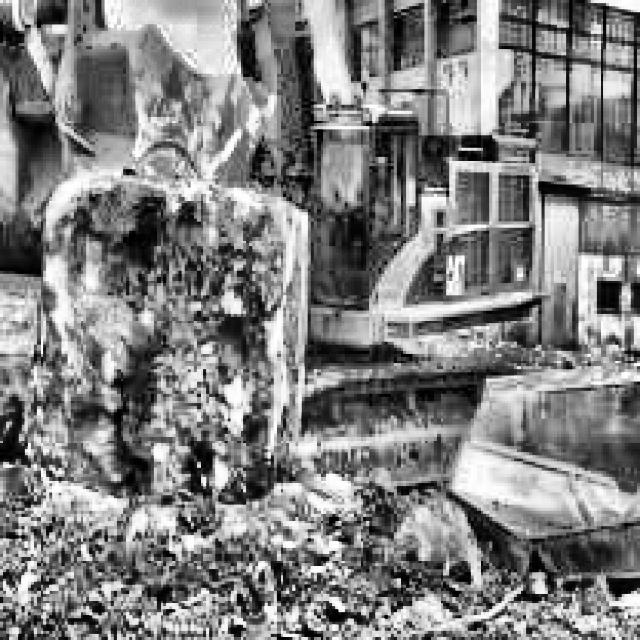excavator: (0, 0, 548, 502)
